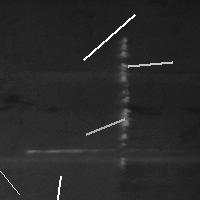scratches: (78, 10, 139, 65), (117, 37, 133, 169), (15, 142, 111, 158), (0, 141, 24, 199), (81, 114, 129, 139), (123, 57, 177, 71), (45, 171, 65, 200)
